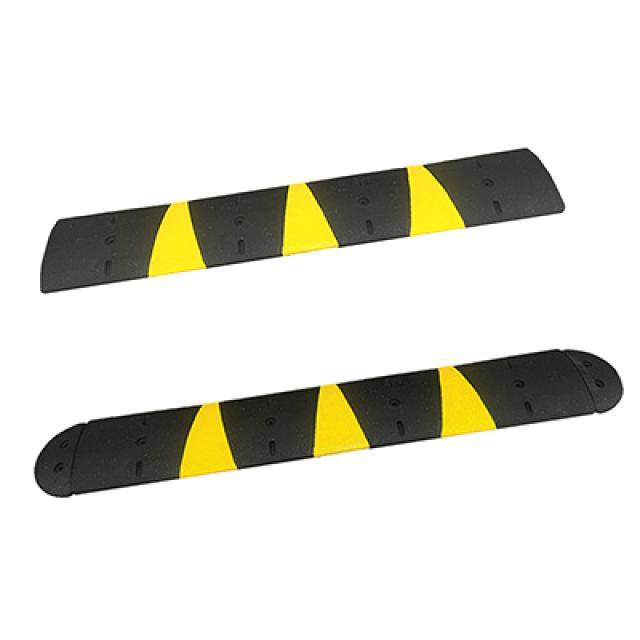speed-bump: (15, 323, 631, 512), (19, 128, 580, 300)
